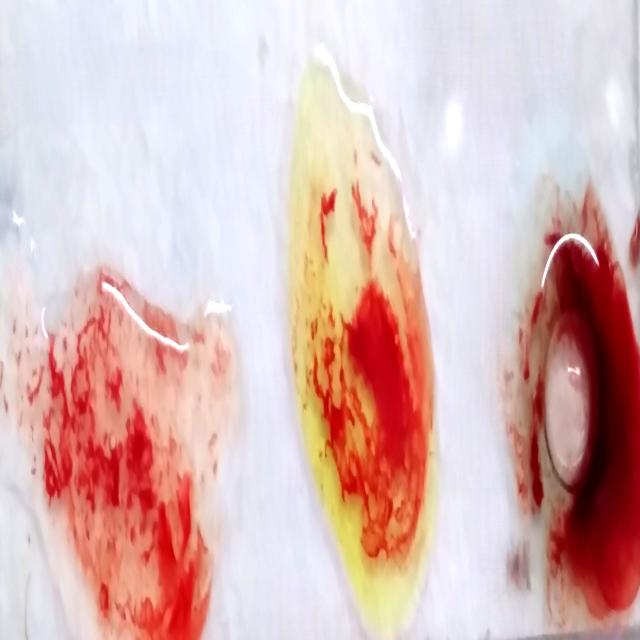A: (511, 145, 640, 640)
B: (289, 43, 430, 633)
D: (7, 289, 228, 640)
